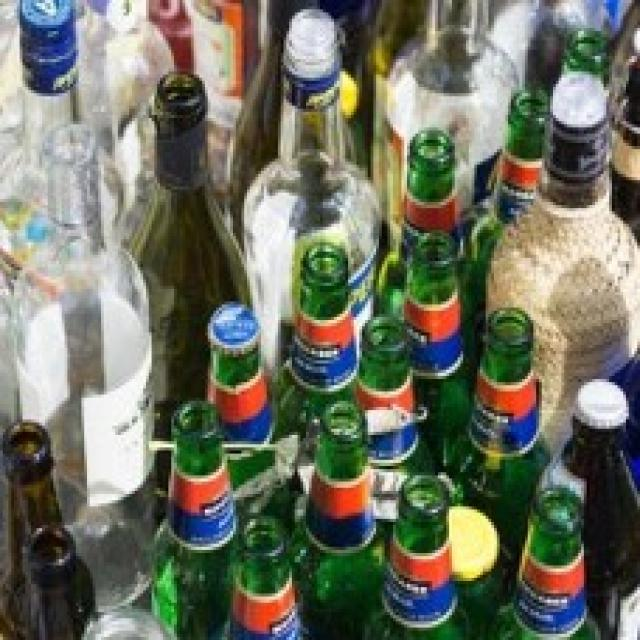electronic: (484, 66, 640, 460), (120, 74, 256, 502), (241, 0, 387, 392), (152, 393, 252, 640), (0, 413, 101, 640)
